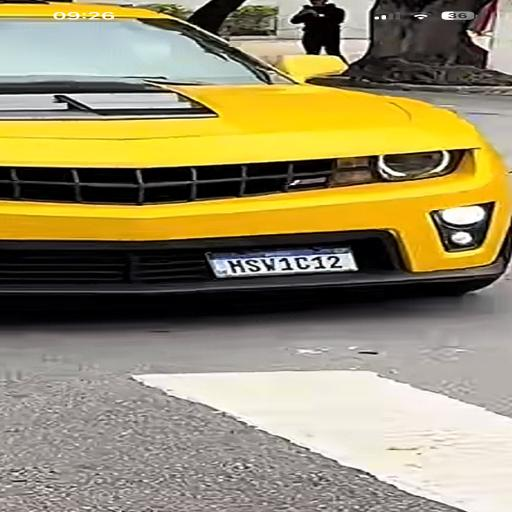detec-o-placas: (134, 234, 413, 308)
